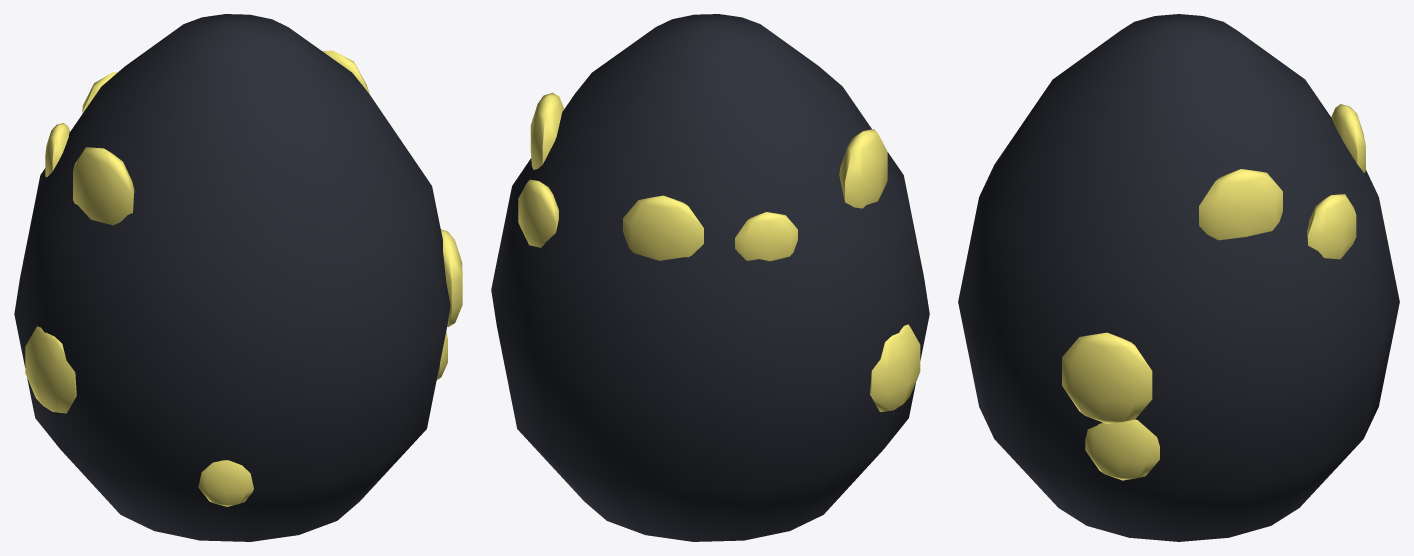
File: SpaceEgg.fbx
3 renders of one model, left to right at view 1: azimuth 30°, elevation 25°; view 2: azimuth 150°, elevation 25°; view 3: azimuth 270°, elevation 25°, orthographic.
Visible parts, largest first — view 1: SpaceEgg; view 2: SpaceEgg; view 3: SpaceEgg.
Boxes of the visible parts, x1,y1,x2,y2 form: SpaceEgg: (14, 14, 462, 541); SpaceEgg: (491, 14, 929, 541); SpaceEgg: (958, 14, 1399, 541).
Bounding box in the file's own units: 2.15 × 2.5 × 2.1.
Materials: 1 (1 with a texture image).
